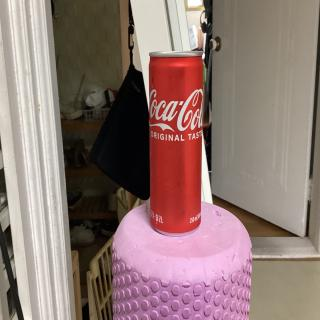cocacola: (146, 45, 204, 235)
